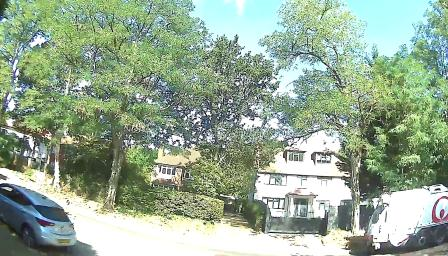Cars: (8, 188, 69, 253)
